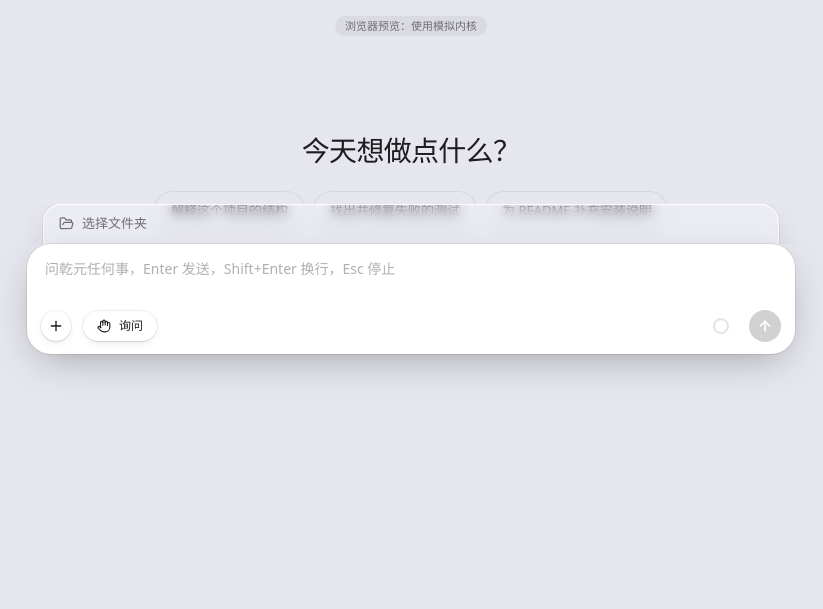
对话区（mock 事件流） › 运行中可以停止：1 秒内恢复发送，半截回复标为已停止，之后可以继续对话
This screenshot has width=823, height=609.
In the text box named "输入消息": (411, 280) [41,258,781,302], type "长任务"
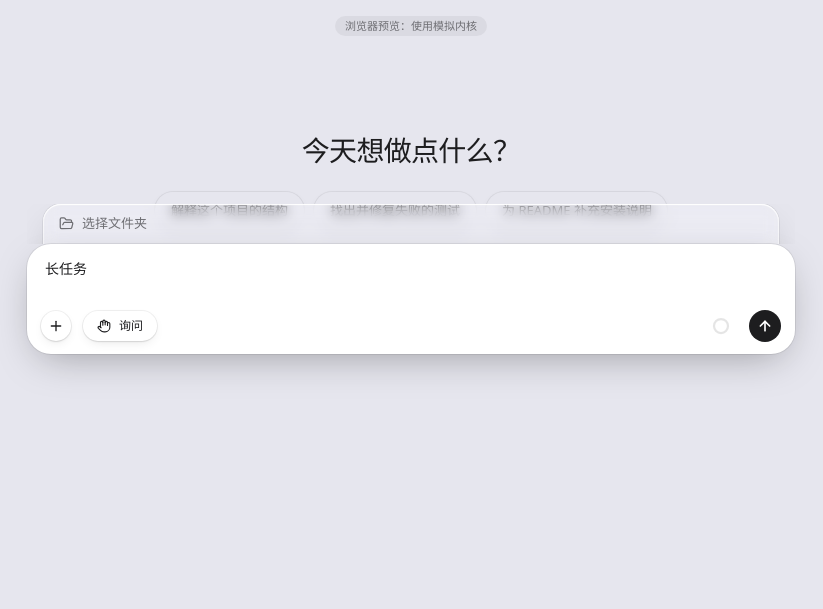
Press Enter in the text box named "输入消息", box [41,258,781,302]
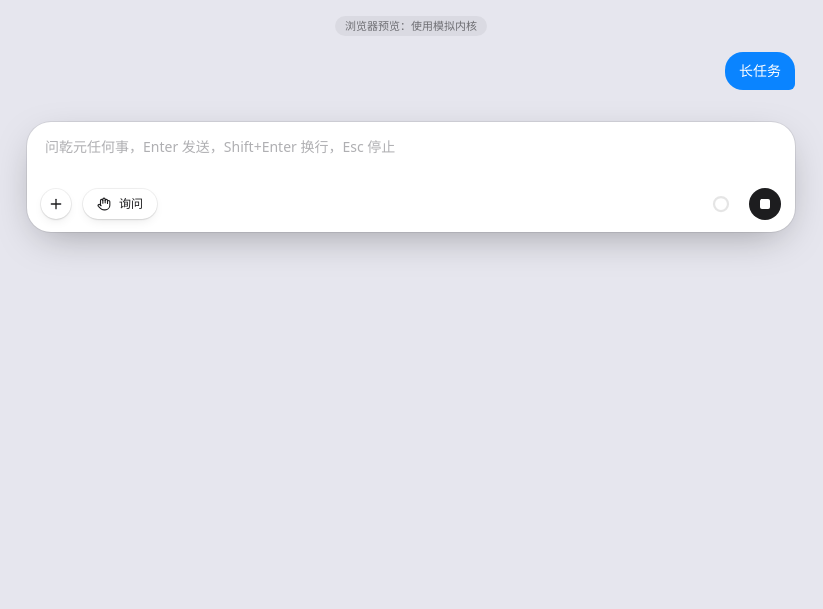
Click the button named "停止": (765, 204) [749,188,781,220]
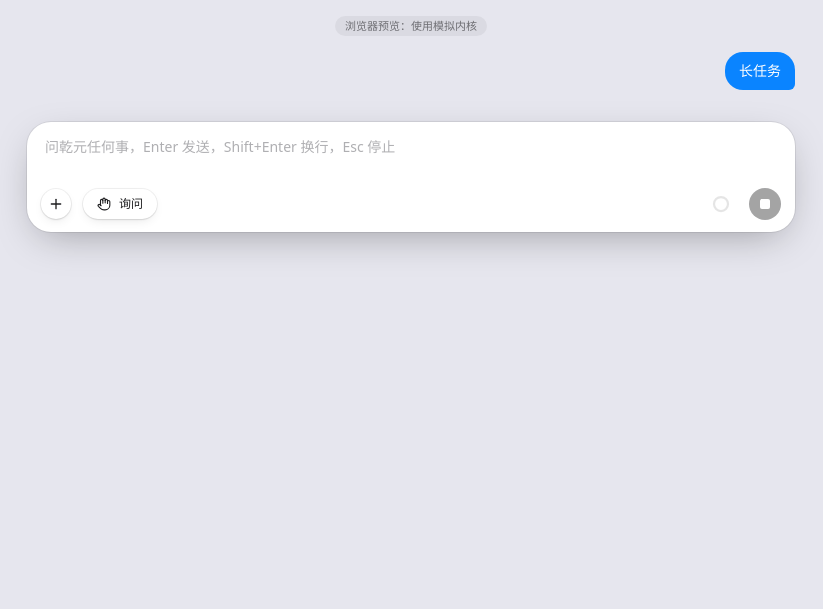
先填好下一条：停止生效即发送按钮可用（不只是出现）
In the text box named "输入消息": (411, 158) [41,136,781,180], type "继续"
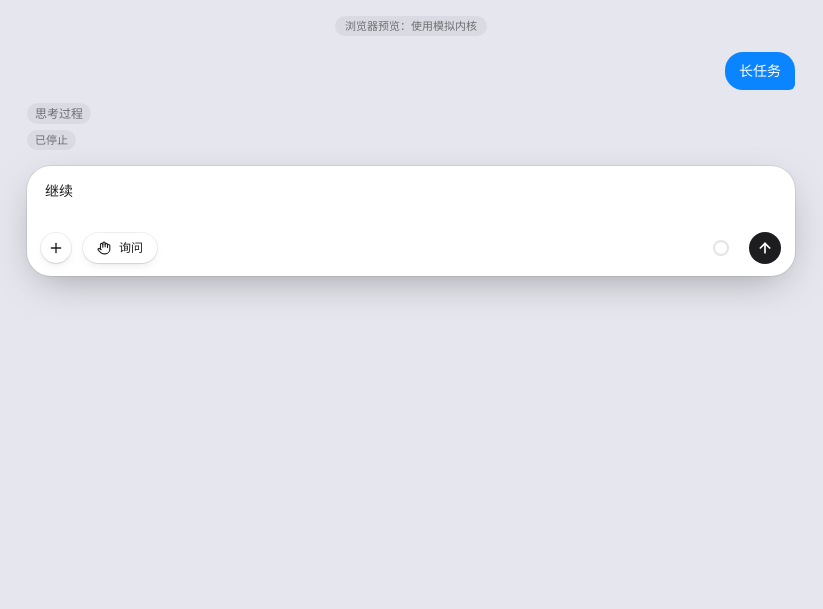
Expected: the text "mock 平台" is not shown
Expected: the button named "发送" is enabled, [749,232,781,264]
Expected: the text "已停止" is shown, [27,130,76,150]
Press Enter in the text box named "输入消息", box [41,180,781,224]
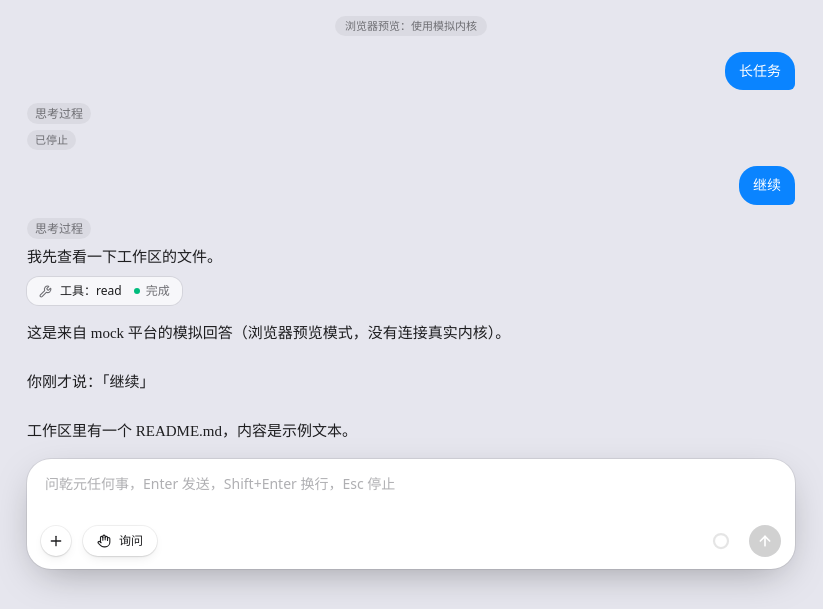
Expected: the text "你刚才说：「继续」" is shown, [27,325,510,439]
